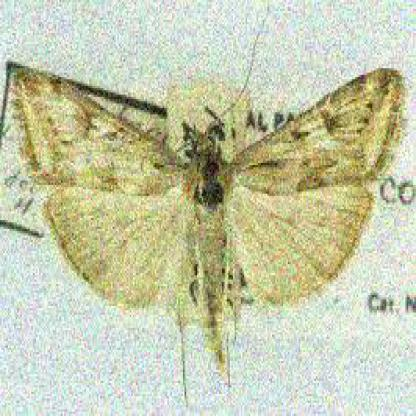Leaf Webber: (10, 64, 411, 385)
